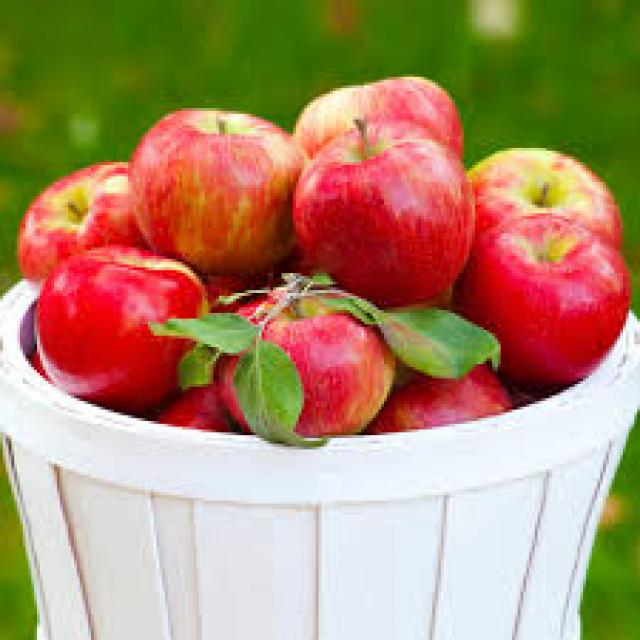apple: (297, 125, 474, 301), (479, 184, 623, 393), (29, 242, 210, 406), (220, 280, 392, 441), (130, 90, 290, 262), (9, 155, 141, 259), (469, 140, 631, 222), (302, 70, 472, 130)
